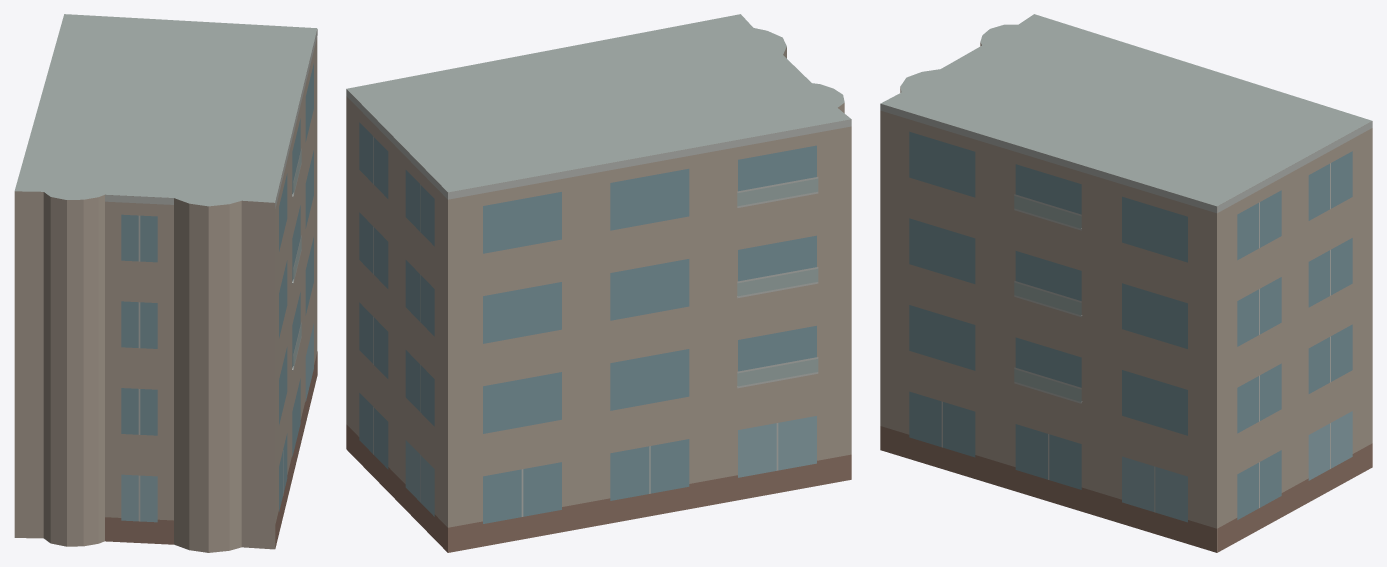
File: survey-upis-32826144.glb
3 views of the same model, side by side, from view 1: azimuth 30°, elevation 25°; view 2: azimuth 150°, elevation 25°; view 3: azimuth 270°, elevation 25° (orthographic). The views are drawn at different scales.
Visible parts, largest first — view 1: survey-upis-32826144.tmp; view 2: survey-upis-32826144.tmp; view 3: survey-upis-32826144.tmp.
Part boxes in pixels (bbox=[...]): survey-upis-32826144.tmp: bbox=[14, 14, 317, 552]; survey-upis-32826144.tmp: bbox=[346, 14, 851, 552]; survey-upis-32826144.tmp: bbox=[880, 14, 1372, 552].
Size of the model in its own units: 14.54 by 12.2 by 15.72.
